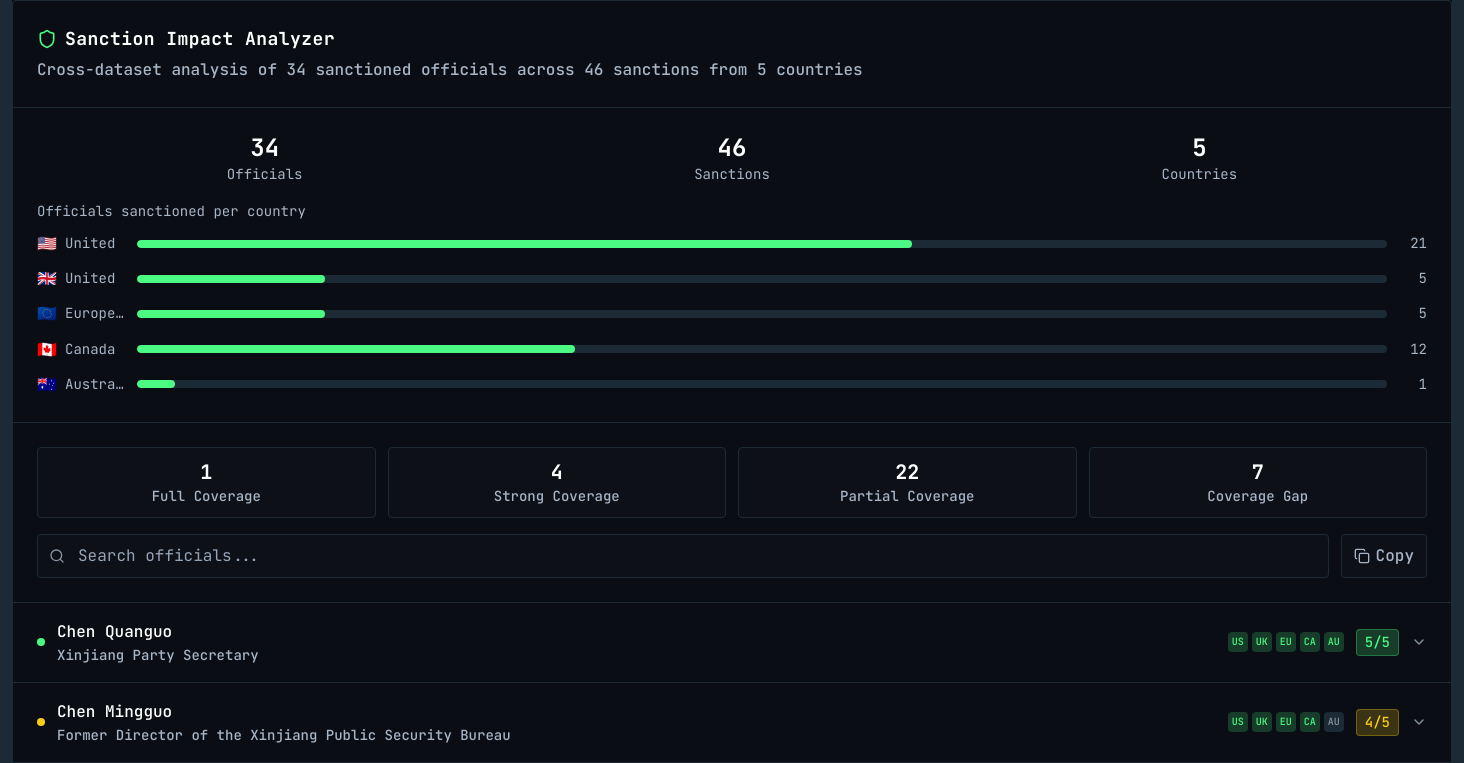
SanctionImpactAnalyzer › clicking an official expands their details
Click the button "Chen Quanguo Xinjiang Party Secretary US UK EU CA AU 5/5" at (115,631), box top-left (13, 603), bottom-right (1451, 682)
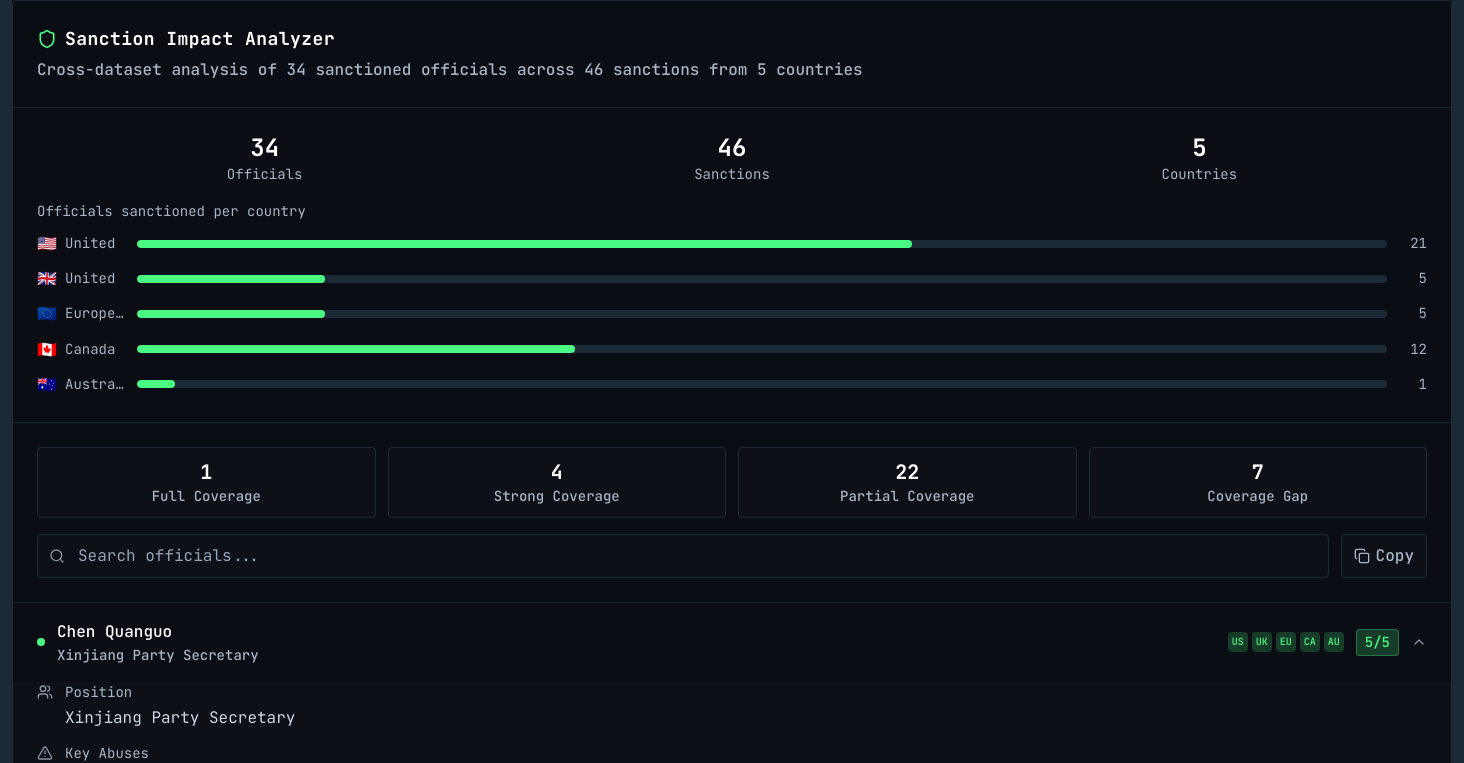
Check: the button "Chen Quanguo Xinjiang Party Secretary US UK EU CA AU 5/5" is expanded, box top-left (13, 603), bottom-right (1451, 682)
